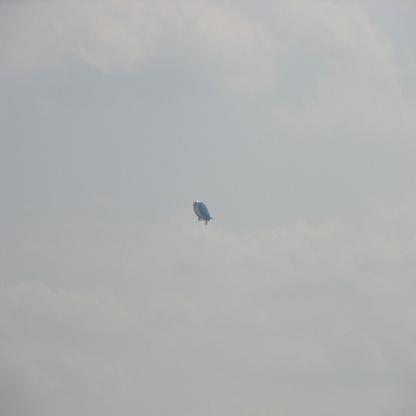Airship: (191, 198, 216, 229)
